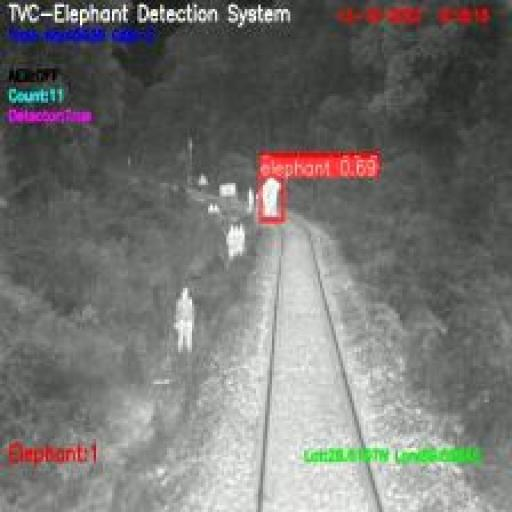Elephant: (260, 176, 284, 221)
